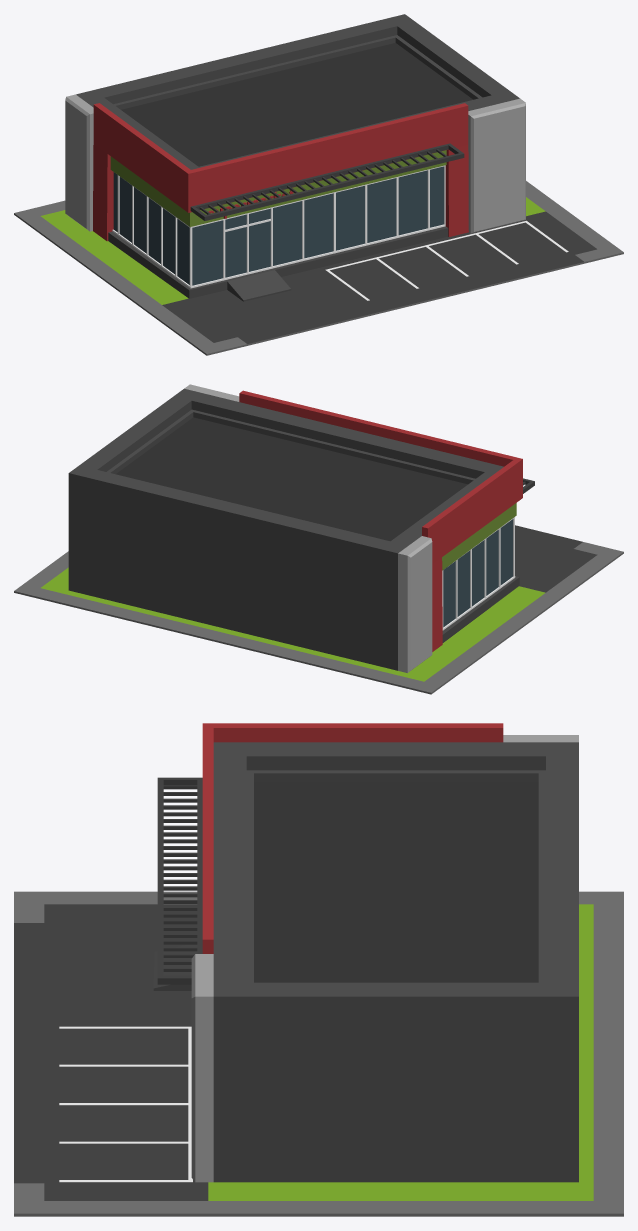
File: supermarket-b.glb
The picture shows the model from 3 angles, top to bottom: view 1: azimuth 30°, elevation 25°; view 2: azimuth 150°, elevation 25°; view 3: azimuth 270°, elevation 25°; orthographic projection. The views are drawn at different scales.
Visible parts, largest first — view 1: supermarket_b; view 2: supermarket_b; view 3: supermarket_b.
Boxes of the visible parts, bbox=[...] form: supermarket_b: bbox=[14, 14, 623, 355]; supermarket_b: bbox=[14, 384, 623, 694]; supermarket_b: bbox=[14, 723, 623, 1216].
Size of the model in its own units: 25 by 7.34 by 20.
1 material, 1 textured.
